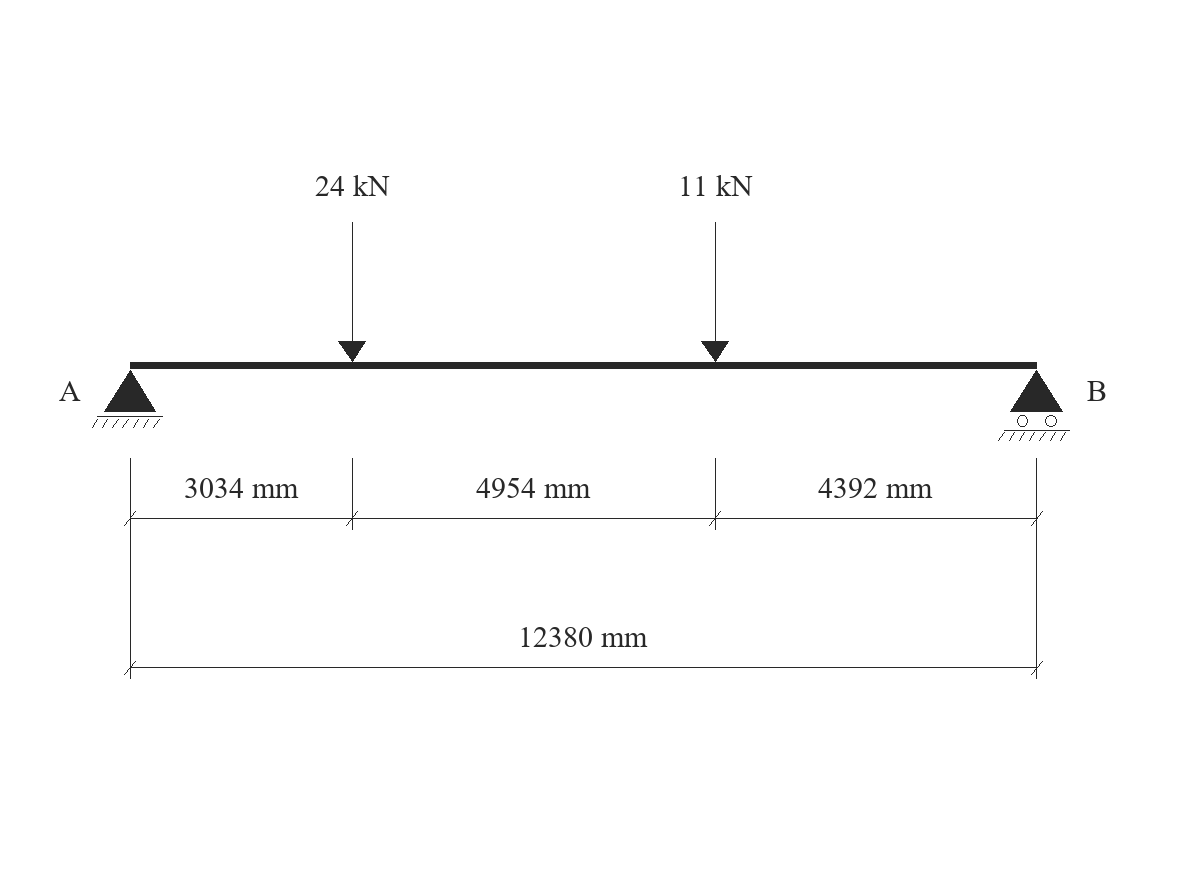pin_support: (92, 370, 163, 428)
point_load: (338, 222, 366, 362), (701, 222, 729, 362)
roller_support: (998, 370, 1070, 441)
